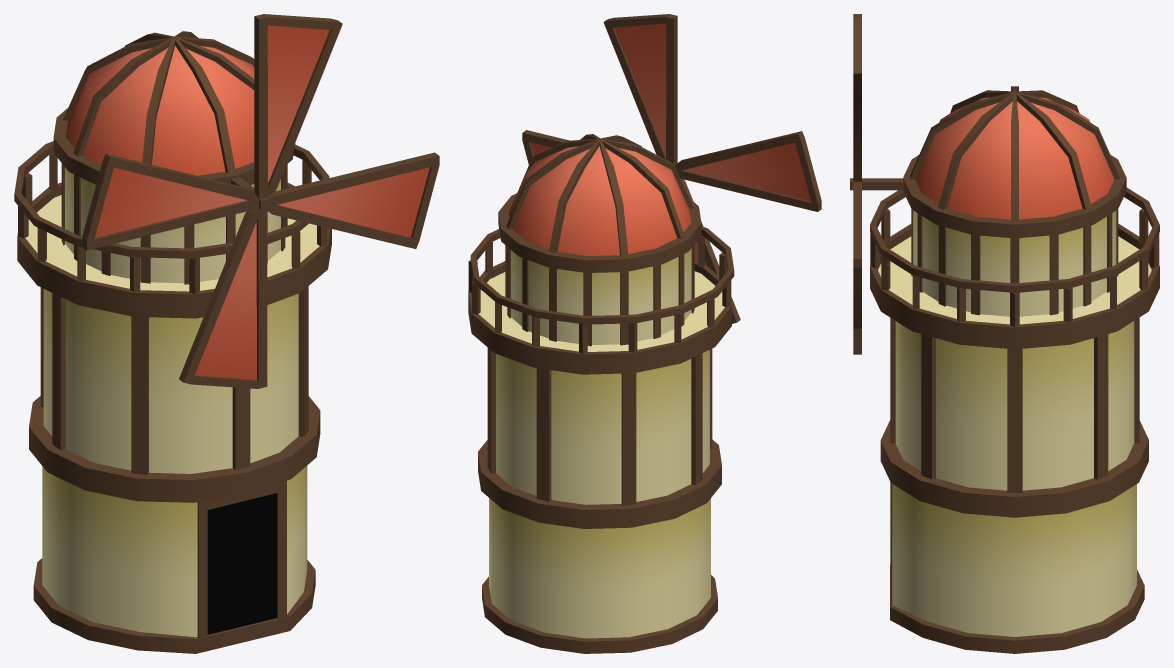
File: Granary.fbx
3 renders of one model, left to right at view 1: azimuth 30°, elevation 25°; view 2: azimuth 150°, elevation 25°; view 3: azimuth 270°, elevation 25°, orthographic. The views are drawn at different scales.
Parts seen in each view (by area): view 1: Building, BuildingWheel; view 2: Building, BuildingWheel; view 3: Building, BuildingWheel.
Part boxes in pixels (x1,y1,x2,y2): Building: [14, 31, 331, 653]; BuildingWheel: [82, 14, 439, 388]; Building: [468, 134, 734, 653]; BuildingWheel: [522, 14, 821, 323]; Building: [850, 86, 1159, 653]; BuildingWheel: [853, 14, 861, 354].
Size of the model in its own units: 244 by 422 by 203.
